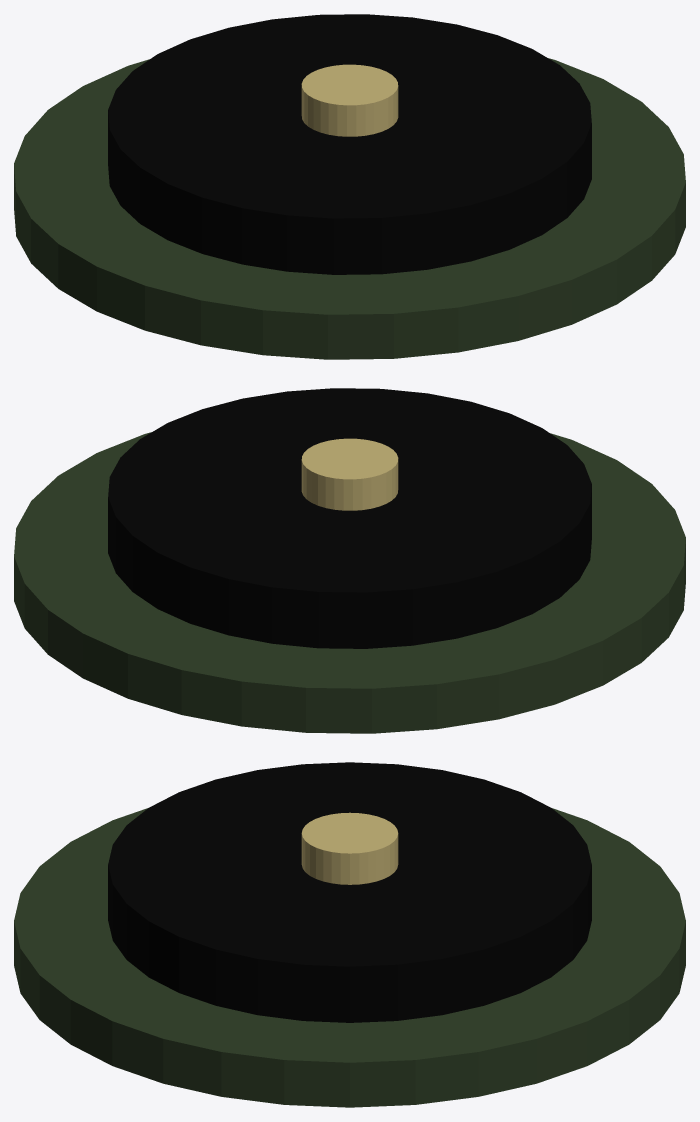
The model's file is Mine.fbx.
3 renders of one model, top to bottom at view 1: azimuth 30°, elevation 25°; view 2: azimuth 150°, elevation 25°; view 3: azimuth 270°, elevation 25°, orthographic.
Visible parts, largest first — view 1: Mine; view 2: Mine; view 3: Mine.
Boxes of the visible parts, <box> form: Mine: <box>14,14,685,359</box>; Mine: <box>14,388,685,733</box>; Mine: <box>14,762,685,1107</box>.
Size of the model in its own units: 611 by 133 by 611.
